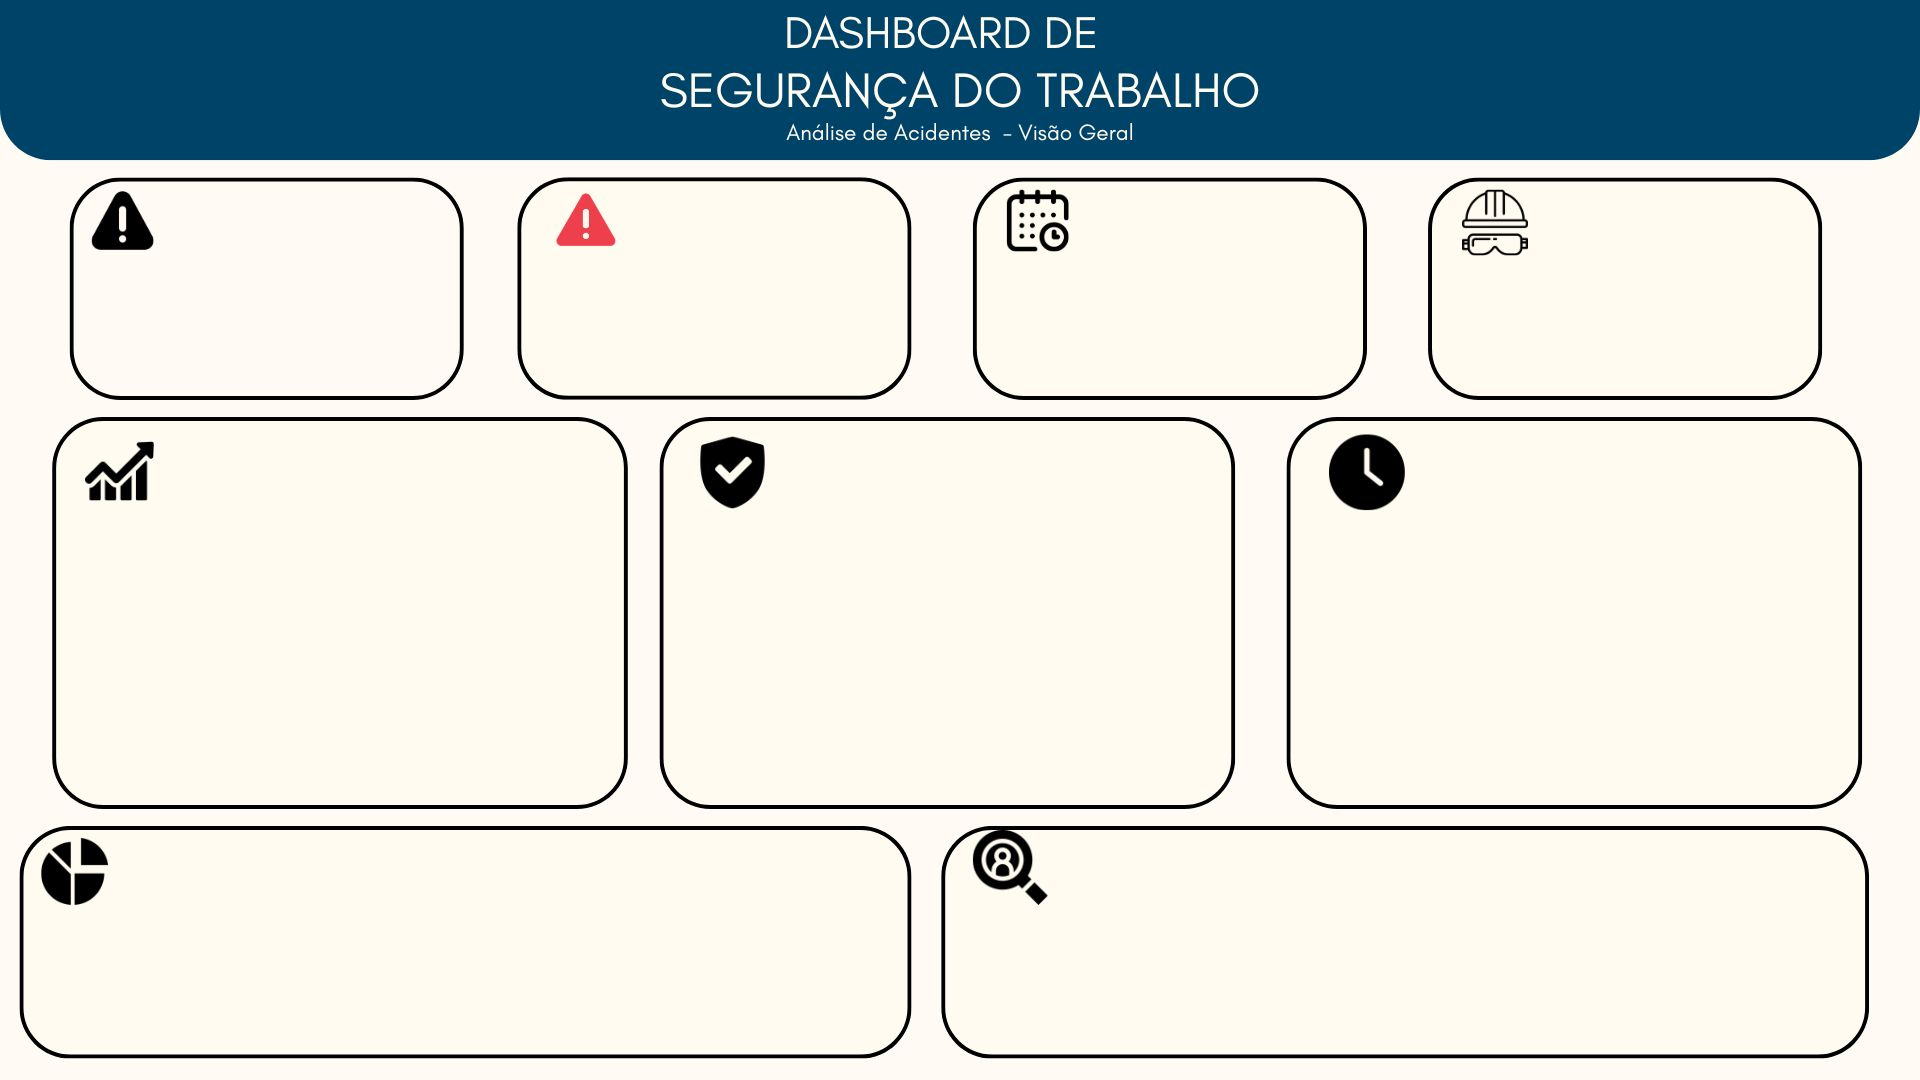

This screenshot's page, from the dashboard's own definition file:
{"tool":"powerbi","page":{"name":"Página 1","canvas":[1280,720],"ordinal":0},"visuals":[{"type":"cardVisual","title":"TOTAL DE ACIDENTE","fields":{"Data":["acidentes.Total_Acidentes"]},"box":[97.8,94.6,173.9,118.5],"z":0},{"type":"barChart","title":"Acidentes por Turno","fields":{"Y":["CountNonNull(acidentes.id)"],"Category":["acidentes.turno"]},"box":[966.3,226.1,291.3,207.6],"z":1000},{"type":"tableEx","title":"Últimos Acidentes","fields":{"Values":["acidentes.data_acidente","acidentes.setor","acidentes.tipo_acidente","acidentes.gravidade"]},"box":[717.7,439.2,552.7,129.6],"z":2000},{"type":"cardVisual","title":"% DE ACIDENTES GRAVES","fields":{"Data":["acidentes.PORCENTAGEM GRAVE"]},"box":[417.4,93.5,192.4,117.4],"z":3000},{"type":"cardVisual","title":"TOTAL DE DIAS SEM ACIDENTES","fields":{"Data":["acidentes.Dias sem acidentes atual"]},"box":[755.4,94.6,173.9,117.4],"z":4000},{"type":"barChart","title":"Acidentes por Setor","fields":{"Category":["acidentes.setor"],"Y":["CountNonNull(acidentes.id)"]},"box":[80.4,227.2,309.8,209.8],"z":5000},{"type":"donutChart","title":"Tipos de Acidentes","fields":{"Category":["acidentes.tipo_acidente"],"Y":["acidentes.Total de acidente setor"]},"box":[485.9,226.1,366.3,206.5],"z":6000},{"type":"cardVisual","title":"% USO DE EPI","fields":{"Data":["acidentes.% uso de EPI"]},"box":[1082.6,98.9,164.1,105.4],"z":7000},{"type":"lineChart","title":"Têndencias de Acidentes","fields":{"Y":["acidentes.Total_Acidentes"],"Category":["acidentes.data_acidente.Variation.Hierarquia de datas.Mês","acidentes.data_acidente.Variation.Hierarquia de datas.Dia"]},"box":[65.2,448.9,544.6,112],"z":8000}]}

Visuals, with their boxes in screenshot pixels (x1, y1, x2, y2), scaled from the page's 1280x720 canvas onto the 1920x1080 screenshot:
"TOTAL DE ACIDENTE" cardVisual: [x1=147, y1=142, x2=408, y2=320]
"Acidentes por Turno" barChart: [x1=1449, y1=339, x2=1886, y2=651]
"Últimos Acidentes" tableEx: [x1=1077, y1=659, x2=1906, y2=853]
"% DE ACIDENTES GRAVES" cardVisual: [x1=626, y1=140, x2=915, y2=316]
"TOTAL DE DIAS SEM ACIDENTES" cardVisual: [x1=1133, y1=142, x2=1394, y2=318]
"Acidentes por Setor" barChart: [x1=121, y1=341, x2=585, y2=656]
"Tipos de Acidentes" donutChart: [x1=729, y1=339, x2=1278, y2=649]
"% USO DE EPI" cardVisual: [x1=1624, y1=148, x2=1870, y2=306]
"Têndencias de Acidentes" lineChart: [x1=98, y1=673, x2=915, y2=841]
